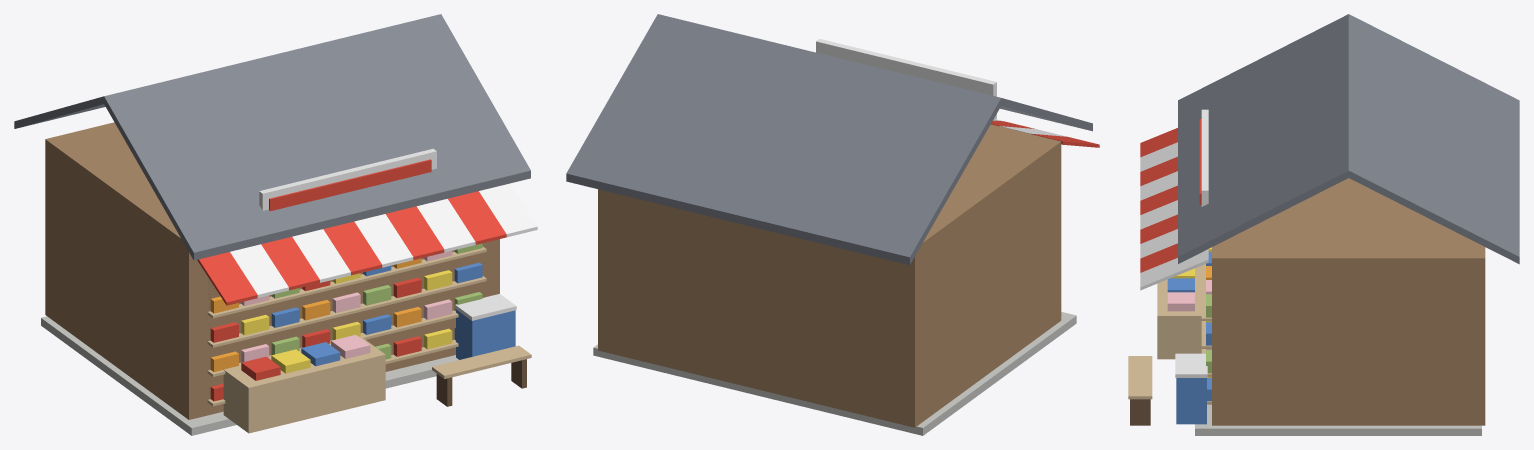
Rendered from dagashiya.glb.
The picture shows the model from 3 angles, left to right: view 1: azimuth 30°, elevation 25°; view 2: azimuth 150°, elevation 25°; view 3: azimuth 270°, elevation 25°; orthographic projection. The views are drawn at different scales.
Visible parts, largest first — view 1: dagashiya; view 2: dagashiya; view 3: dagashiya.
Boxes of the visible parts, box(x1,y1,x2,y2) form: dagashiya: box(14, 14, 537, 435); dagashiya: box(566, 14, 1099, 435); dagashiya: box(1128, 14, 1519, 435).
Size of the model in its own units: 5.42 by 4.34 by 5.73.
